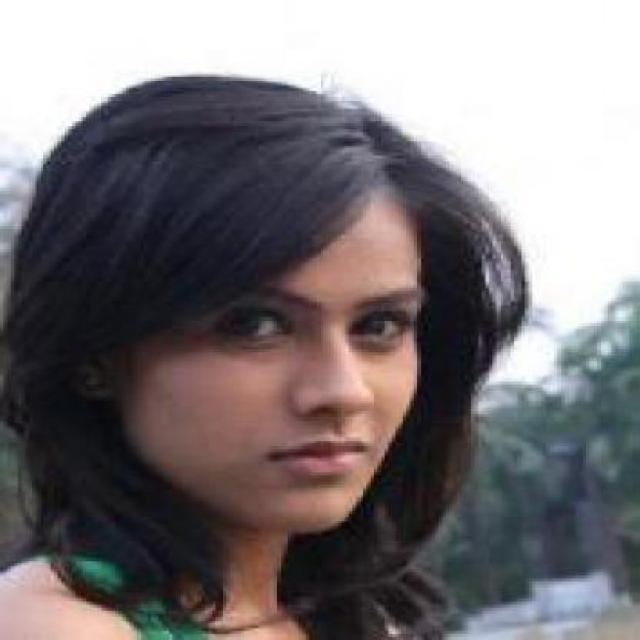closed-mouth: (274, 436, 368, 470)
